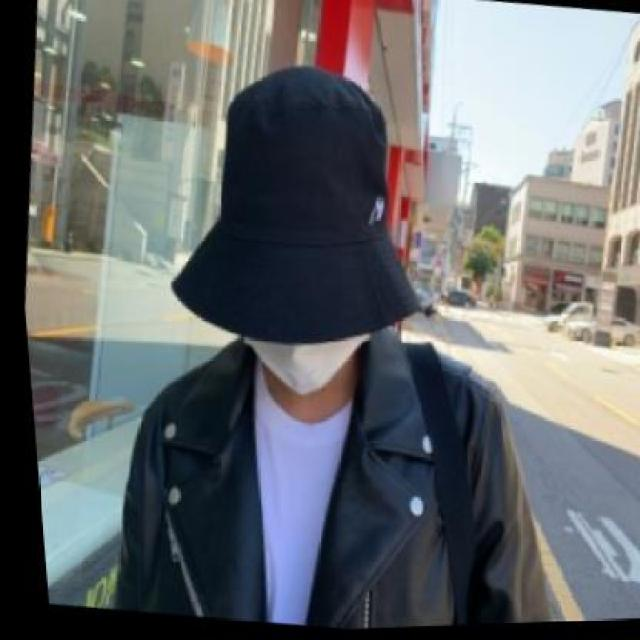hat: (144, 54, 444, 368)
